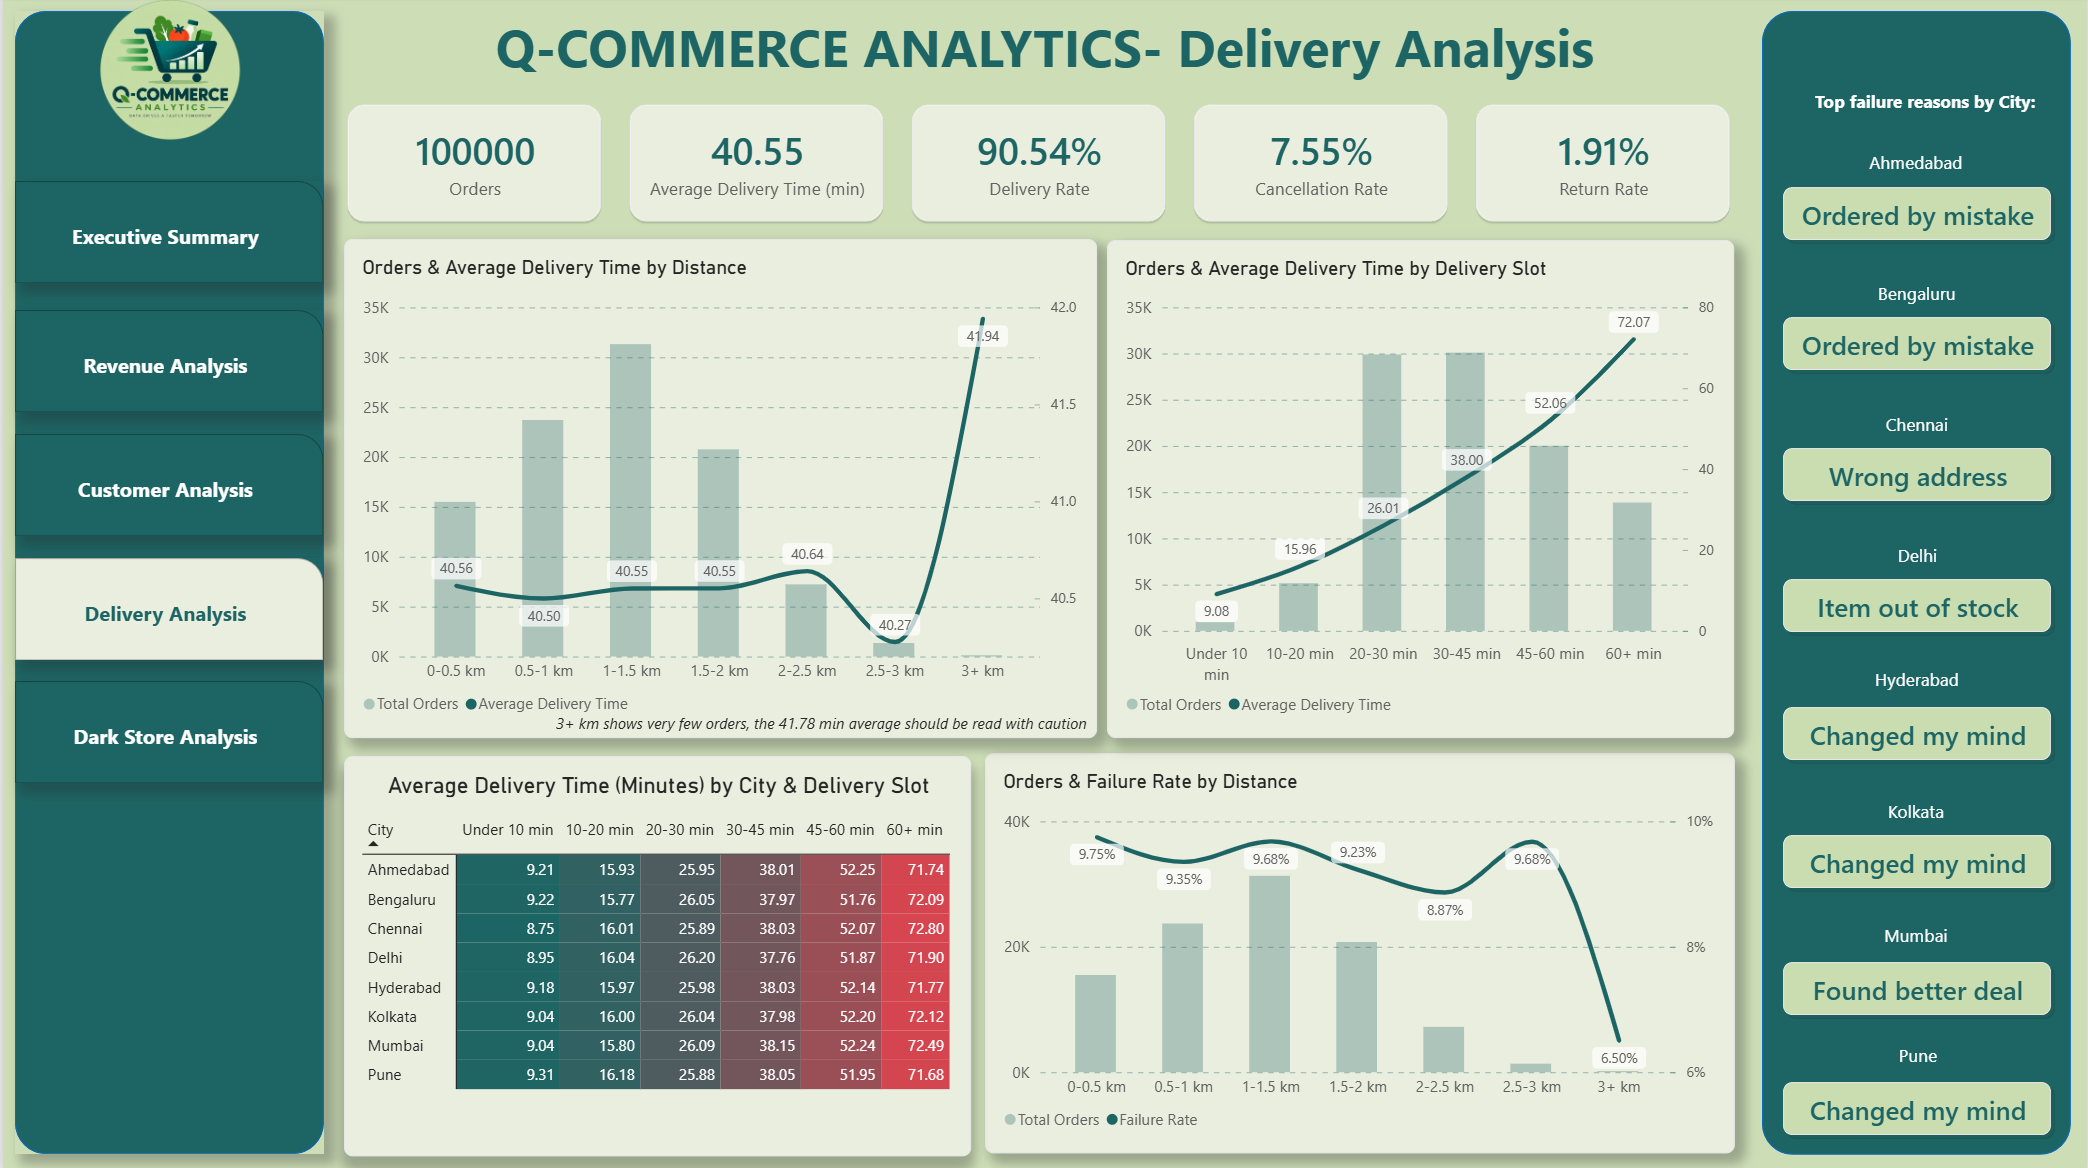

Layout of this report page (visuals, bound fields, positions):
{"tool":"powerbi","page":{"name":"Delivery Analysis","canvas":[1920,1080],"ordinal":3},"visuals":[{"type":"shape","box":[1620.9,12.5,284.5,1054],"z":0},{"type":"textbox","box":[296.7,12.9,1327,72.8],"z":1000},{"type":"shape","box":[11.1,12.5,284.6,1053.4],"z":2000},{"type":"lineClusteredColumnComboChart","title":"Orders & Failure Rate by Distance","fields":{"Category":["qcommerce_2015_cleaned.Distance Bucket"],"Y":["Measure Table.Total Orders"],"Y2":["Measure Table.Cancellation + Return Rate"]},"box":[905.2,696.3,690.6,369.1],"z":3000},{"type":"lineClusteredColumnComboChart","title":"Orders & Average Delivery Time by Distance","fields":{"Category":["qcommerce_2015_cleaned.Distance Bucket"],"Y":["Measure Table.Total Orders"],"Y2":["Measure Table.Average Delivery Time"]},"box":[313.8,223.2,694.4,459.7],"z":4000},{"type":"lineClusteredColumnComboChart","title":"Orders & Average Delivery Time by Delivery Slot","fields":{"Category":["qcommerce_2015_cleaned.delivery_slot"],"Y":["Measure Table.Total Orders"],"Y2":["Measure Table.Average Delivery Time"]},"box":[1017.6,223.6,578.4,459.1],"z":5000},{"type":"cardVisual","fields":{"Data":["Measure Table.Total Orders","Measure Table.Average Delivery Time","Measure Table.Delivery Rate","Measure Table.Cancellation Rate","Measure Table.Return Rate"]},"box":[314,95.4,1282,114.3],"z":6000},{"type":"cardVisual","fields":{"Data":["Min(qcommerce_2015_cleaned.cancel_return_reason)"]},"box":[1635,169.4,258,60],"z":7000},{"type":"cardVisual","fields":{"Data":["Min(qcommerce_2015_cleaned.cancel_return_reason)"]},"box":[1635,883.9,258,60],"z":8000},{"type":"cardVisual","fields":{"Data":["Min(qcommerce_2015_cleaned.cancel_return_reason)"]},"box":[1635,289.8,258,60],"z":9000},{"type":"cardVisual","fields":{"Data":["Min(qcommerce_2015_cleaned.cancel_return_reason)"]},"box":[1635,410.1,258,60],"z":10000},{"type":"cardVisual","fields":{"Data":["Min(qcommerce_2015_cleaned.cancel_return_reason)"]},"box":[1635,530.5,258,60],"z":11000},{"type":"cardVisual","fields":{"Data":["Min(qcommerce_2015_cleaned.cancel_return_reason)"]},"box":[1635,648.9,258,60],"z":12000},{"type":"cardVisual","fields":{"Data":["Min(qcommerce_2015_cleaned.cancel_return_reason)"]},"box":[1635,766.4,258,60],"z":13000},{"type":"cardVisual","fields":{"Data":["Min(qcommerce_2015_cleaned.cancel_return_reason)"]},"box":[1634.7,994.3,258,60],"z":14000},{"type":"textbox","box":[1670.1,85.8,208.3,47],"z":15000},{"type":"textbox","box":[1621.8,141.9,281.8,27.6],"z":16000},{"type":"textbox","box":[1621.8,262.6,283.8,34.1],"z":17000},{"type":"textbox","box":[1621.8,383.3,283.8,26.7],"z":18000},{"type":"textbox","box":[1621.8,504.1,284.7,26.7],"z":19000},{"type":"textbox","box":[1621.8,618.3,283.8,30.4],"z":20000},{"type":"textbox","box":[1621.8,740,282,26.7],"z":21000},{"type":"textbox","box":[1621.8,854.2,282,29.5],"z":22000},{"type":"textbox","box":[1622.8,964.8,283.8,29.5],"z":23000},{"type":"textbox","box":[509.6,659.8,492.1,19.4],"z":24000},{"type":"pivotTable","title":"Average Delivery Time (Minutes) by City & Delivery Slot","fields":{"Columns":["qcommerce_2015_cleaned.delivery_slot"],"Rows":["qcommerce_2015_cleaned.city"],"Values":["Measure Table.Average Delivery Time"]},"box":[313.8,699.1,578,369.1],"z":25000},{"type":"shape","title":"Executive Summery","box":[11.4,169.8,284.2,94.4],"z":25001},{"type":"shape","box":[11.4,288.6,284.2,94.4],"z":25002},{"type":"shape","box":[11.4,630.5,284.2,94.4],"z":25003},{"type":"shape","box":[11.4,402.5,284.2,94.4],"z":25004},{"type":"shape","box":[11.4,516.5,284.2,94.4],"z":25005},{"type":"image","box":[68.7,0,169.8,135.4],"z":25006}]}

Visuals, with their boxes in screenshot pixels (x1, y1, x2, y2), scaled from the page's 1920x1080 canvas onto the 2088x1168 screenshot:
shape: box(1763, 14, 2072, 1153)
textbox: box(323, 14, 1766, 93)
shape: box(12, 14, 322, 1153)
"Orders & Failure Rate by Distance" lineClusteredColumnComboChart: box(984, 753, 1735, 1152)
"Orders & Average Delivery Time by Distance" lineClusteredColumnComboChart: box(341, 241, 1096, 739)
"Orders & Average Delivery Time by Delivery Slot" lineClusteredColumnComboChart: box(1107, 242, 1736, 738)
cardVisual - Measure Table.Total Orders x Measure Table.Average Delivery Time: box(341, 103, 1736, 227)
cardVisual - Min(qcommerce_2015_cleaned.cancel_return_reason): box(1778, 183, 2059, 248)
cardVisual - Min(qcommerce_2015_cleaned.cancel_return_reason): box(1778, 956, 2059, 1021)
cardVisual - Min(qcommerce_2015_cleaned.cancel_return_reason): box(1778, 313, 2059, 378)
cardVisual - Min(qcommerce_2015_cleaned.cancel_return_reason): box(1778, 444, 2059, 508)
cardVisual - Min(qcommerce_2015_cleaned.cancel_return_reason): box(1778, 574, 2059, 639)
cardVisual - Min(qcommerce_2015_cleaned.cancel_return_reason): box(1778, 702, 2059, 767)
cardVisual - Min(qcommerce_2015_cleaned.cancel_return_reason): box(1778, 829, 2059, 894)
cardVisual - Min(qcommerce_2015_cleaned.cancel_return_reason): box(1778, 1075, 2058, 1140)
textbox: box(1816, 93, 2043, 144)
textbox: box(1764, 153, 2070, 183)
textbox: box(1764, 284, 2072, 321)
textbox: box(1764, 415, 2072, 443)
textbox: box(1764, 545, 2073, 574)
textbox: box(1764, 669, 2072, 702)
textbox: box(1764, 800, 2070, 829)
textbox: box(1764, 924, 2070, 956)
textbox: box(1765, 1043, 2073, 1075)
textbox: box(554, 714, 1089, 735)
"Average Delivery Time (Minutes) by City & Delivery Slot" pivotTable: box(341, 756, 970, 1155)
"Executive Summery" shape: box(12, 184, 321, 286)
shape: box(12, 312, 321, 414)
shape: box(12, 682, 321, 784)
shape: box(12, 435, 321, 537)
shape: box(12, 559, 321, 661)
image: box(75, 0, 259, 146)
